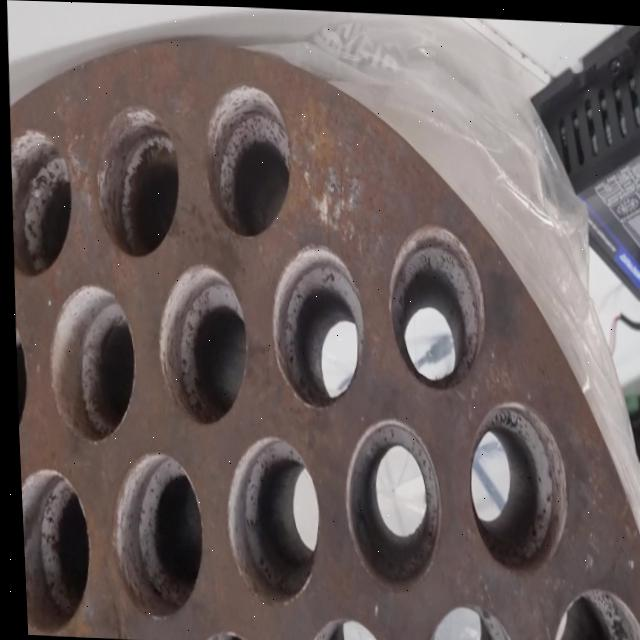Hole: (336, 412, 440, 591), (460, 396, 565, 572), (380, 220, 485, 390), (217, 430, 318, 604), (103, 448, 201, 620), (264, 240, 363, 408), (149, 259, 246, 425), (40, 281, 135, 443), (199, 80, 293, 237), (89, 101, 180, 258), (16, 466, 87, 635), (5, 127, 73, 278), (539, 582, 640, 640), (410, 600, 514, 640), (289, 612, 387, 640), (10, 297, 26, 460)
